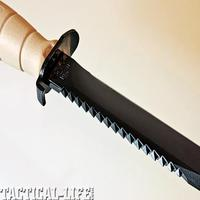knife: (1, 20, 200, 186)
